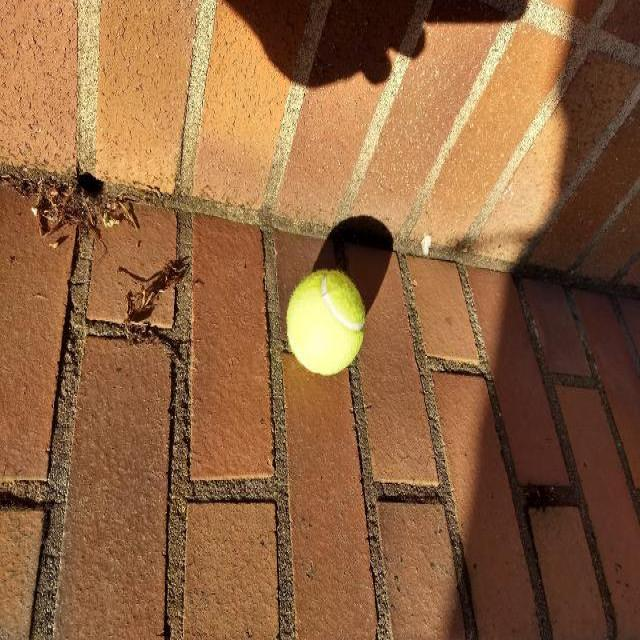tennis-ball: (286, 268, 366, 376)
